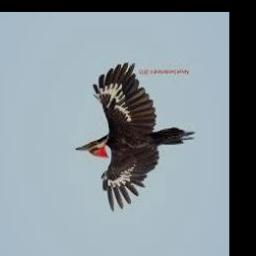Woodpecker: (77, 64, 196, 213)
